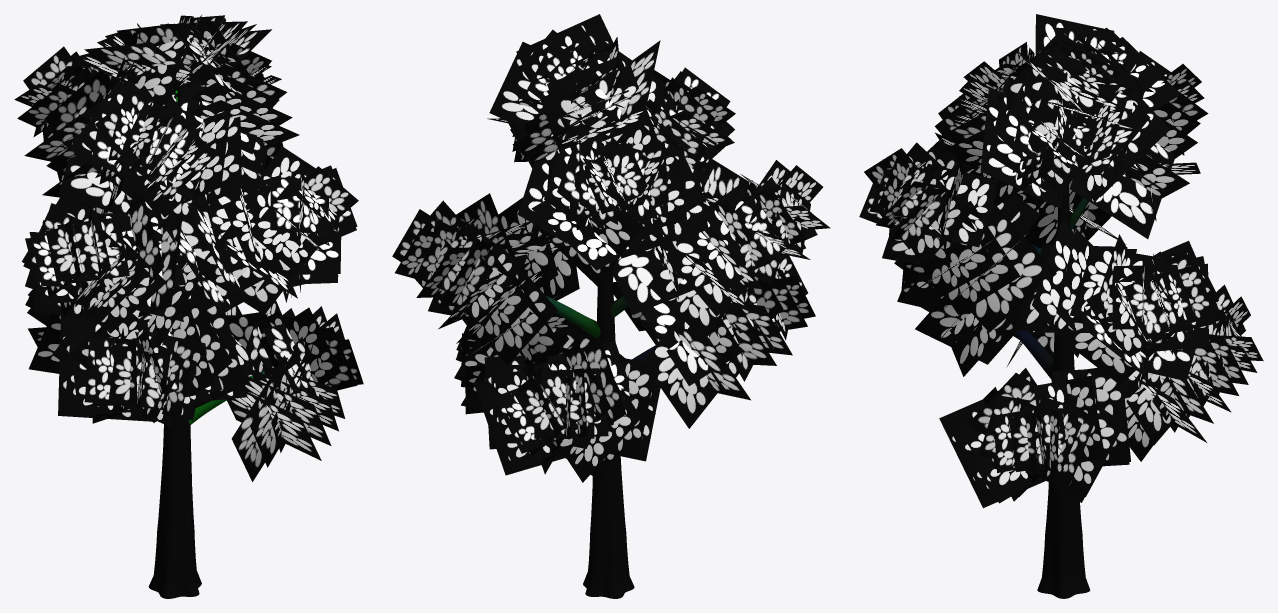
File: Tree_1.fbx
3 renders of one model, left to right at view 1: azimuth 30°, elevation 25°; view 2: azimuth 150°, elevation 25°; view 3: azimuth 270°, elevation 25°, orthographic. The views are drawn at different scales.
Visible parts, largest first — view 1: Tree_1, Tree_0; view 2: Tree_1, Tree_0; view 3: Tree_1, Tree_0.
Boxes of the visible parts, x1,y1,x2,y2 form: Tree_1: (14, 14, 363, 481); Tree_0: (148, 63, 264, 598); Tree_1: (392, 14, 830, 482); Tree_0: (545, 270, 655, 598); Tree_1: (859, 14, 1263, 508); Tree_0: (1015, 184, 1090, 598).
Size of the model in its own units: 196 by 305 by 201.
1 material, 1 textured.
